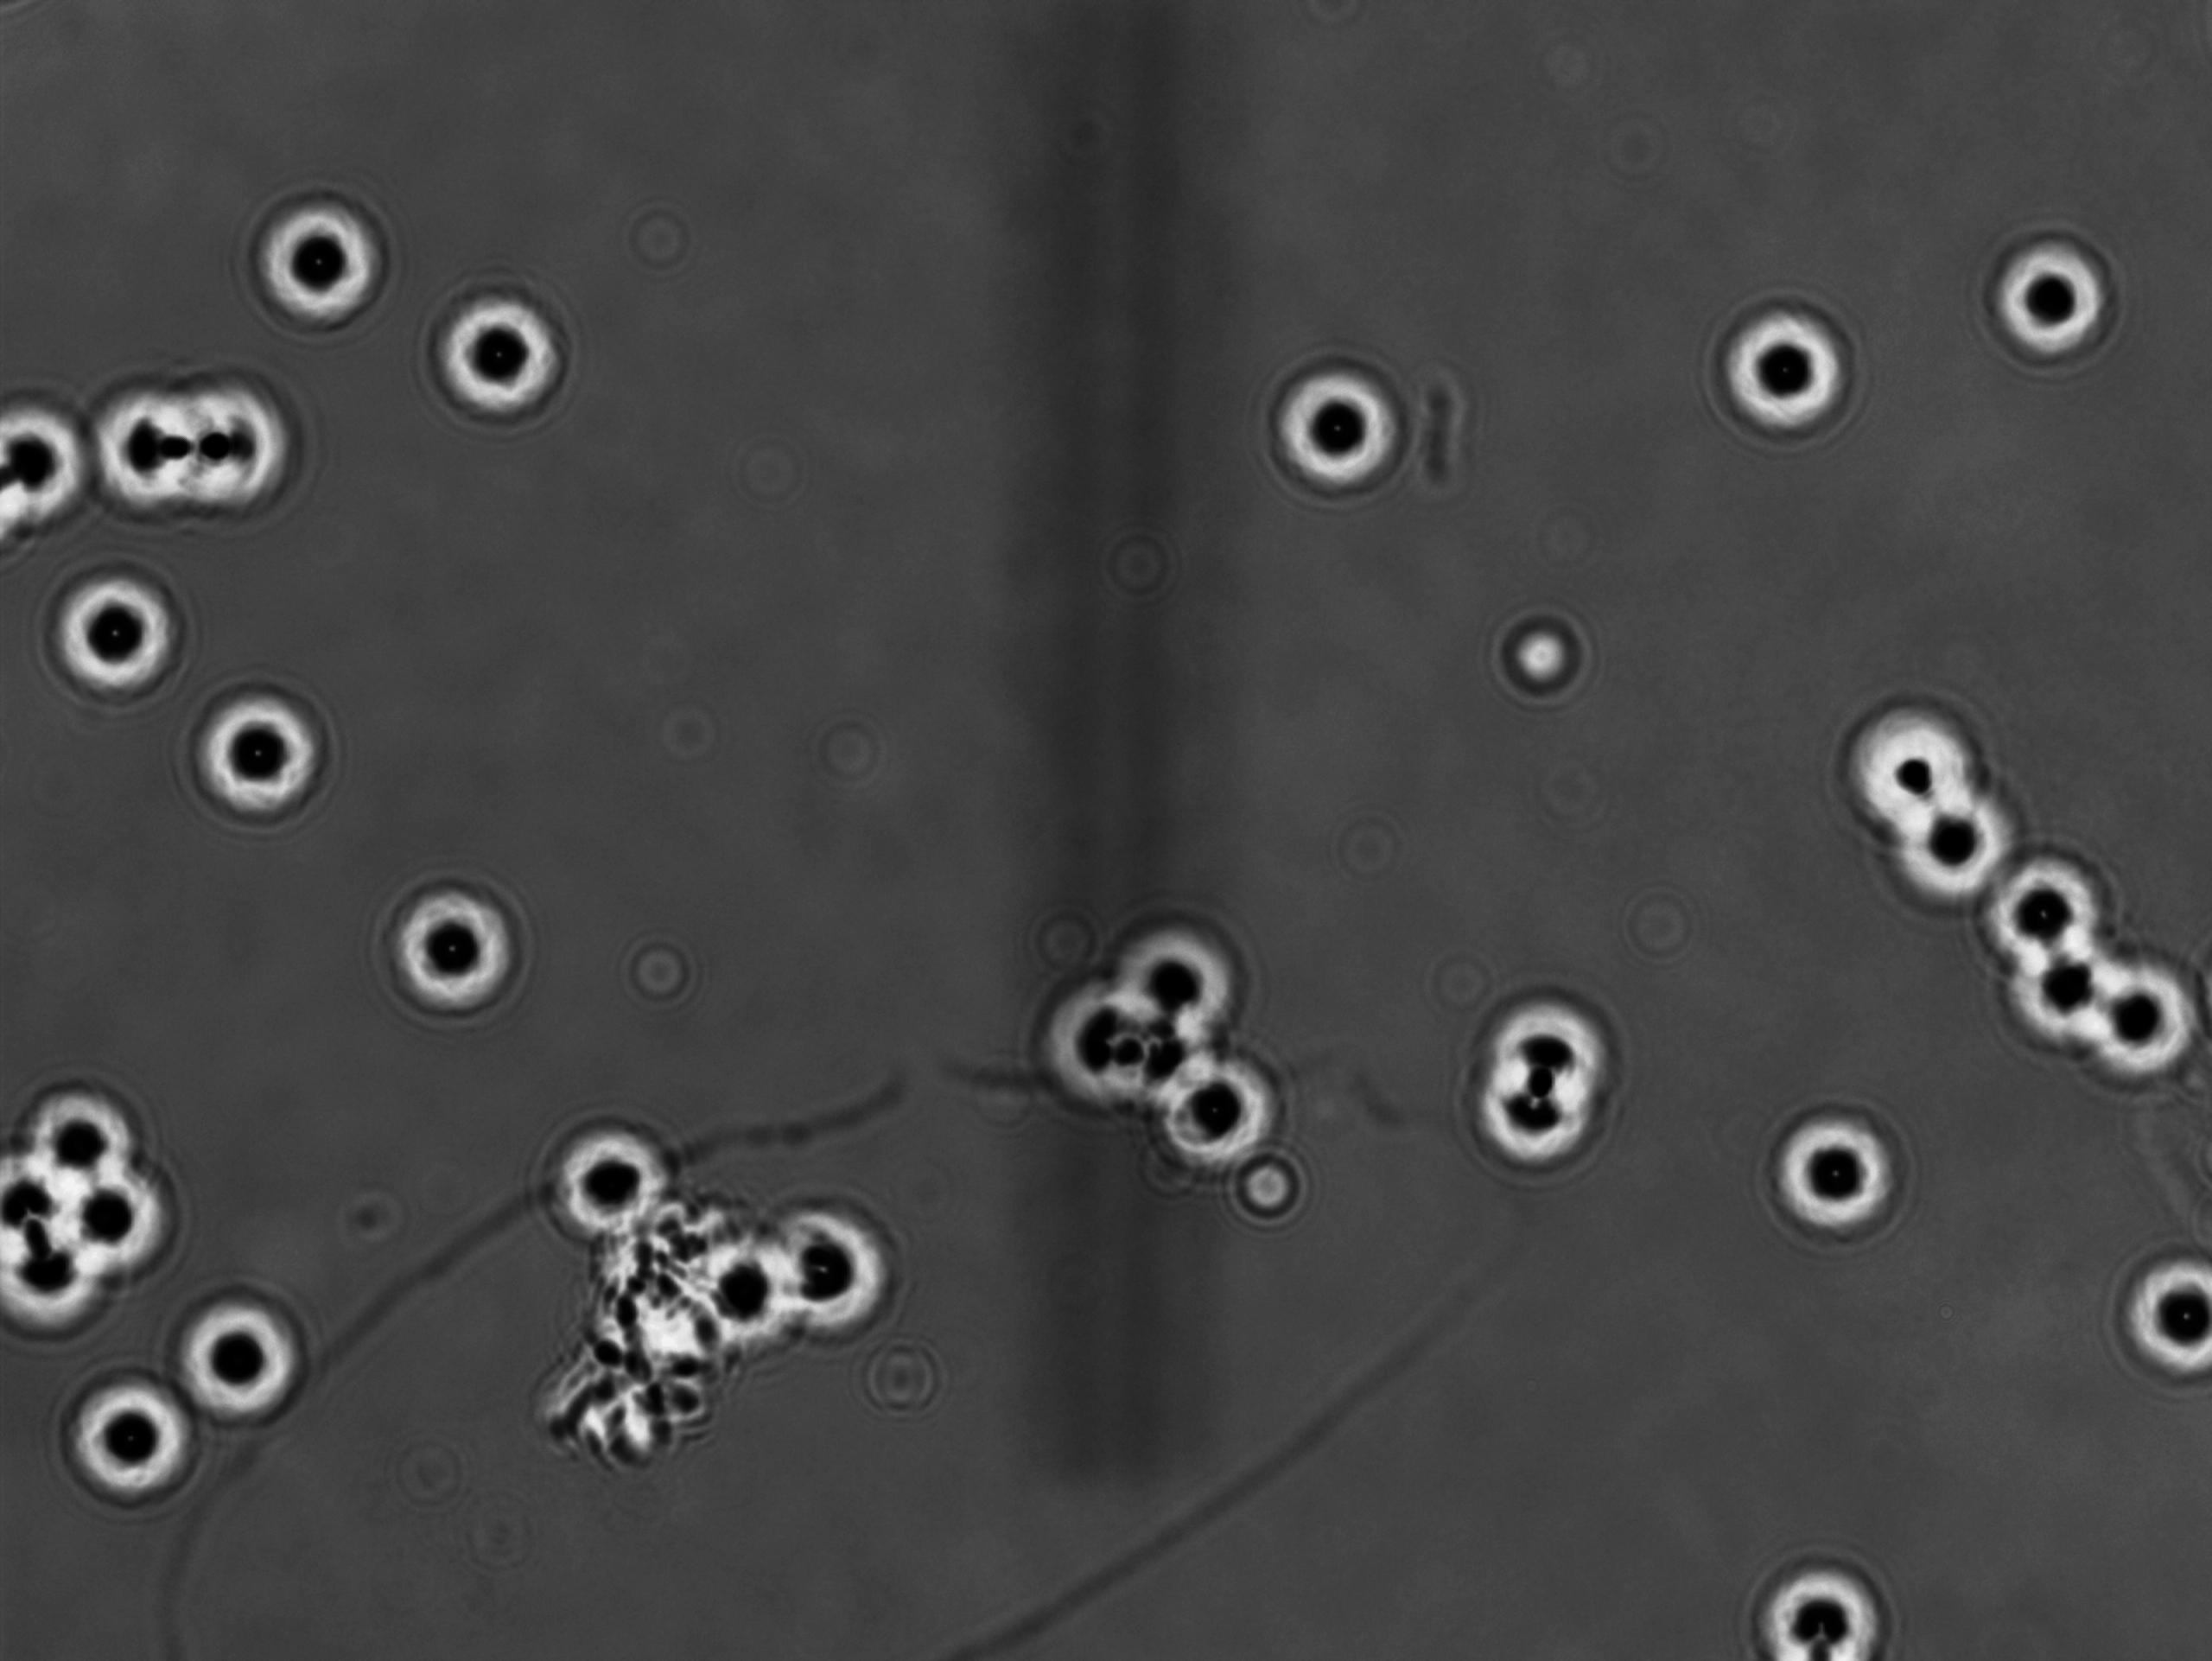depth:-20: (1460, 961, 1659, 1179), (1751, 1089, 1931, 1260), (38, 1357, 225, 1518), (1970, 222, 2140, 389), (1260, 333, 1423, 508), (169, 679, 338, 846), (373, 857, 544, 1021), (417, 276, 584, 440), (1701, 291, 1868, 455), (1888, 776, 2065, 925), (229, 178, 394, 335), (160, 1282, 330, 1432), (40, 553, 202, 705), (534, 1111, 689, 1260), (1982, 837, 2133, 982), (2107, 1239, 2212, 1384)
